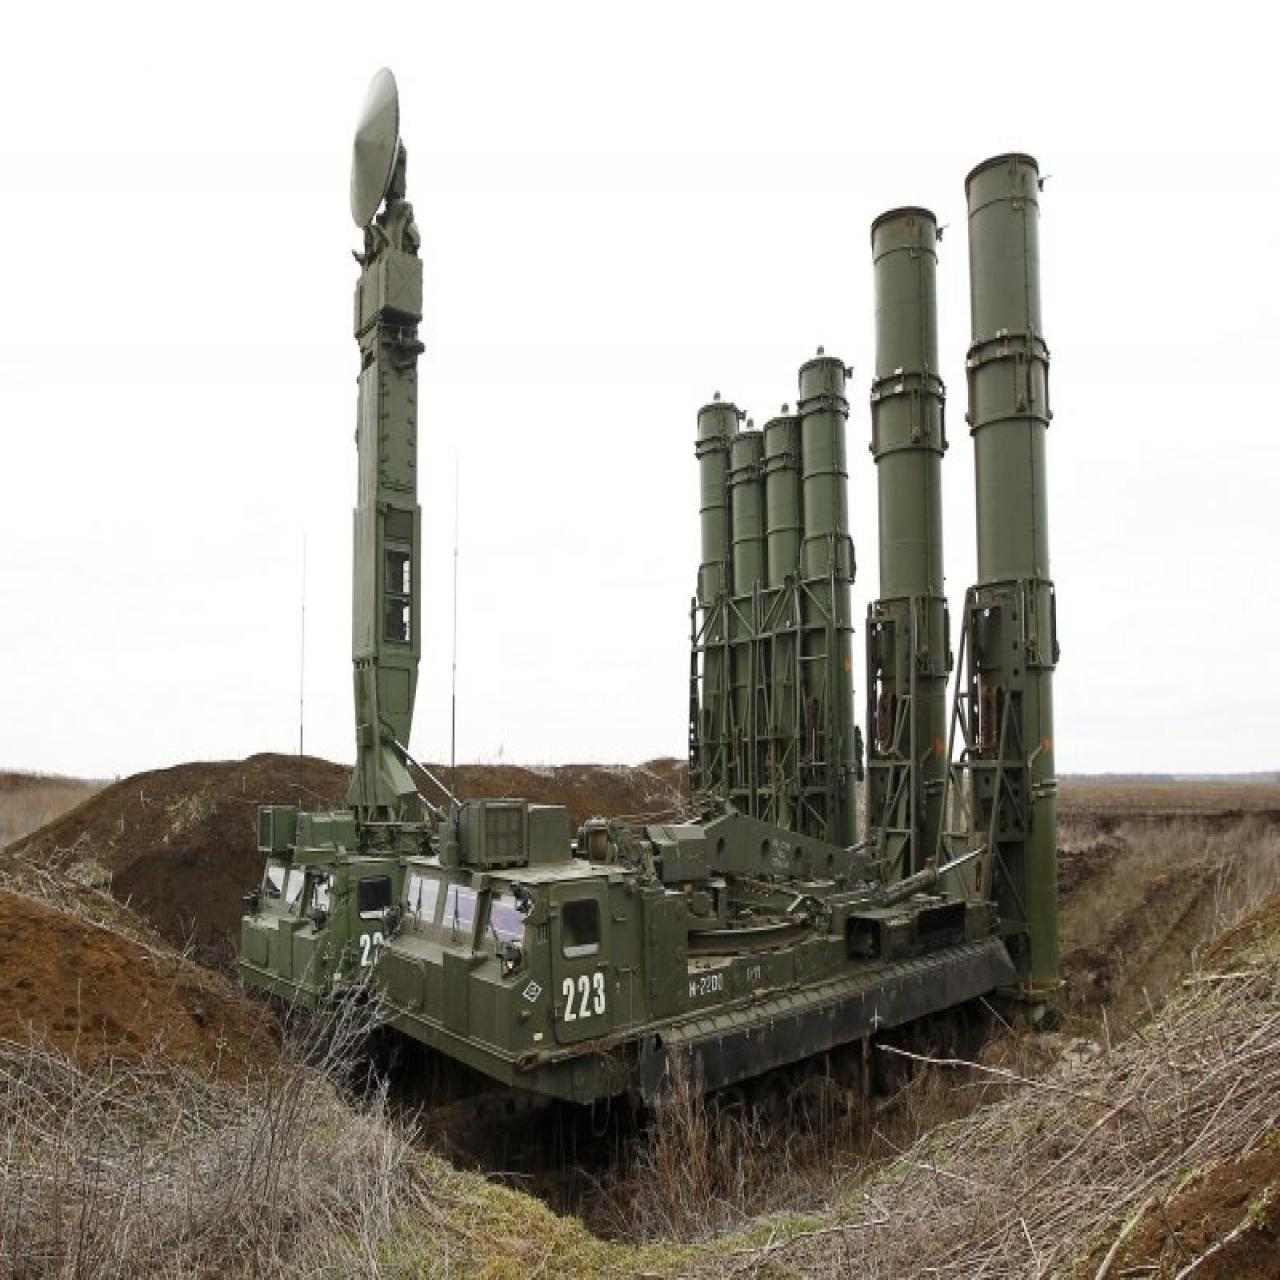MIL_Veh: (388, 148, 1060, 1143), (244, 355, 852, 1013)
